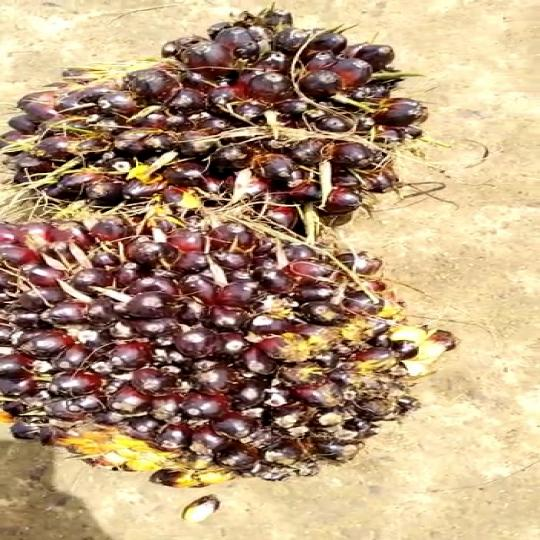kurang masak: (0, 166, 448, 504), (0, 0, 466, 233)
